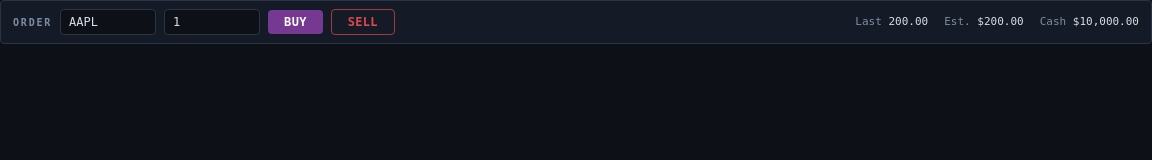
TradeBar › shows the live price and an order estimate for the typed symbol
Replace the text in the number field named "Trade quantity" with "3" at x=212, y=22, box 164,9 -> 260,35
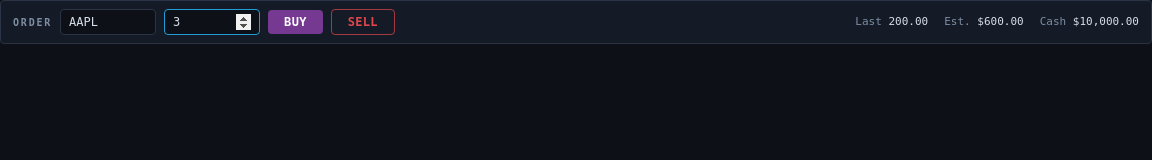
Expected: the text "200.00" is shown, 888,15 -> 928,28
Now the text "$600.00" is shown, box 977,15 -> 1024,28
